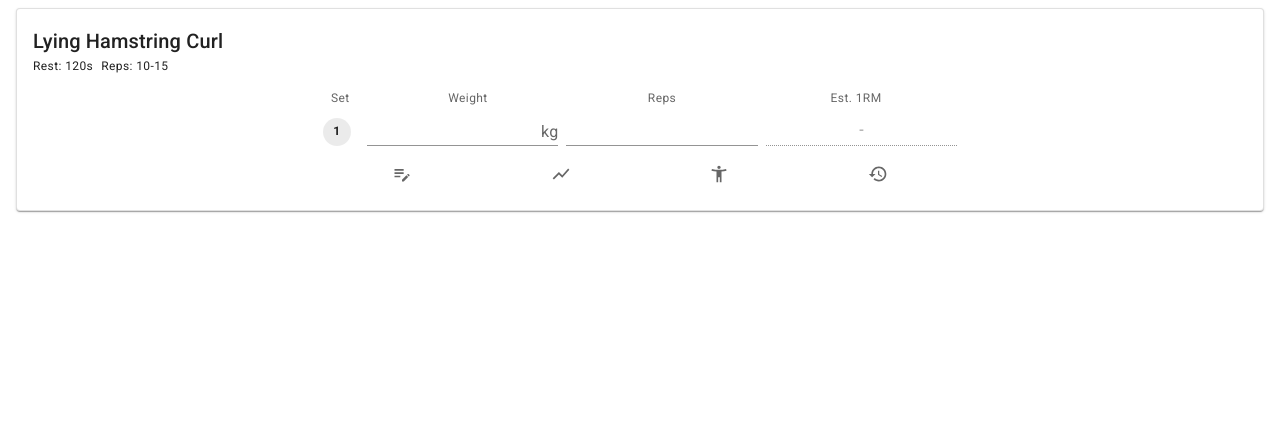
Scenario: ExerciseSlide › shows an accordion with up to three previous workout tables below the set list
Click the tab named "history" at [878, 174], box left=799, top=158, right=957, bottom=190
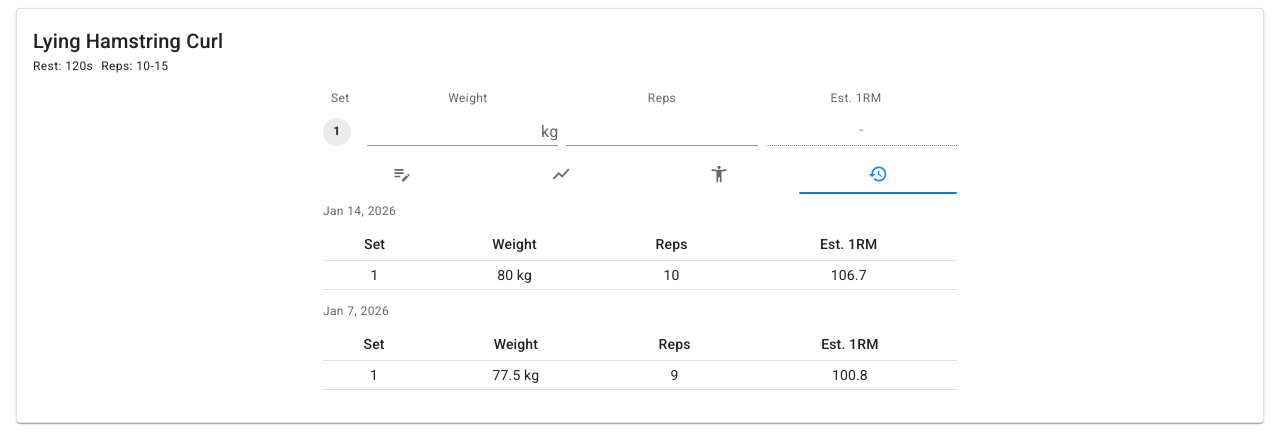
expect the table named "Previous workout table 1" is shown: met, box left=323, top=228, right=957, bottom=290
expect the text "Jan 14, 2026" is shown: met, box left=323, top=204, right=396, bottom=218
expect the text "Jan 7, 2026" is shown: met, box left=323, top=304, right=389, bottom=318
